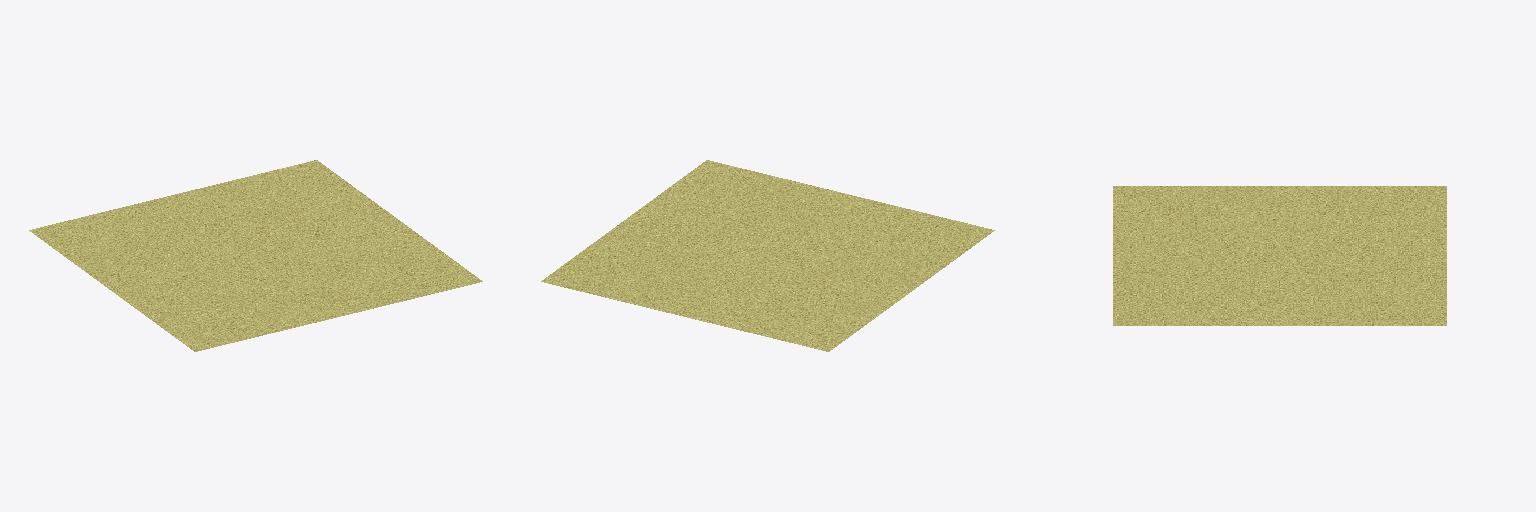
3 renders of one model, left to right at view 1: azimuth 30°, elevation 25°; view 2: azimuth 150°, elevation 25°; view 3: azimuth 270°, elevation 25°, orthographic.
Parts seen in each view (by area): view 1: Plane; view 2: Plane; view 3: Plane.
Part boxes in pixels (bbox=[...]): Plane: bbox=[29, 160, 482, 351]; Plane: bbox=[541, 160, 994, 351]; Plane: bbox=[1113, 186, 1446, 325].
Bounding box in the file's own units: 128 × 0 × 128.
1 materials, 1 textured.